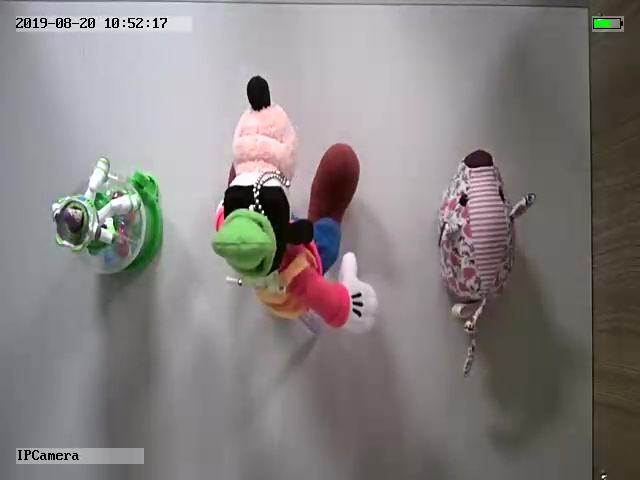buzz: (50, 156, 165, 282)
goofy: (211, 74, 377, 335)
pig: (436, 148, 535, 374)
